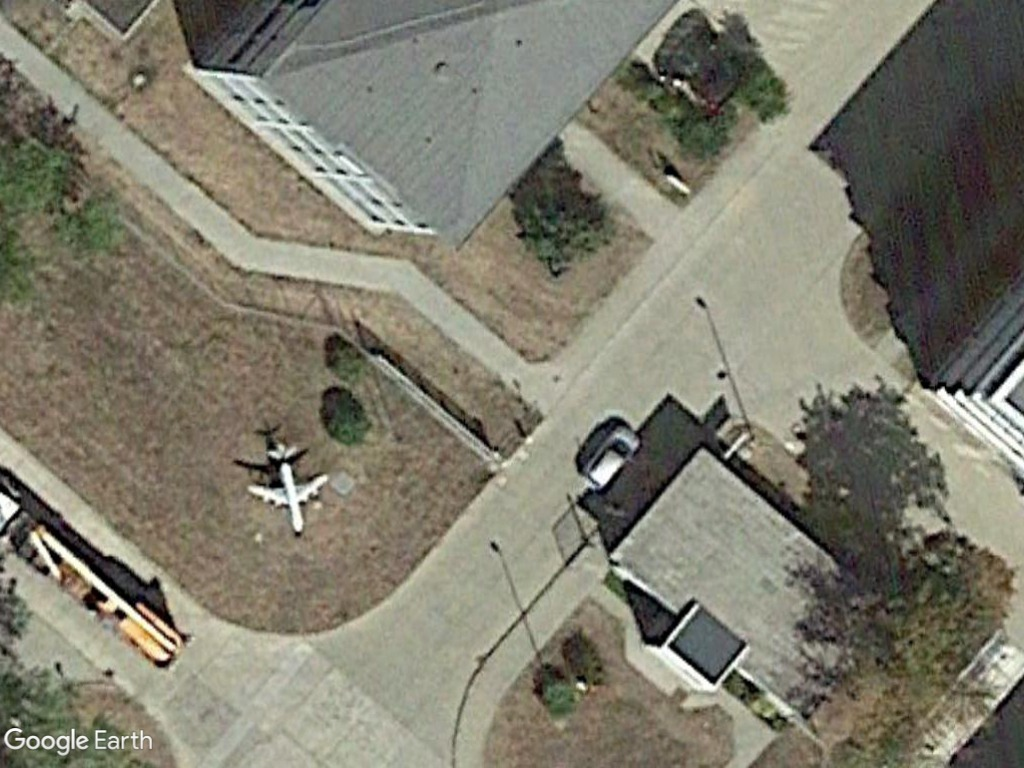airliner: (246, 442, 332, 543)
car: (567, 415, 656, 497)
